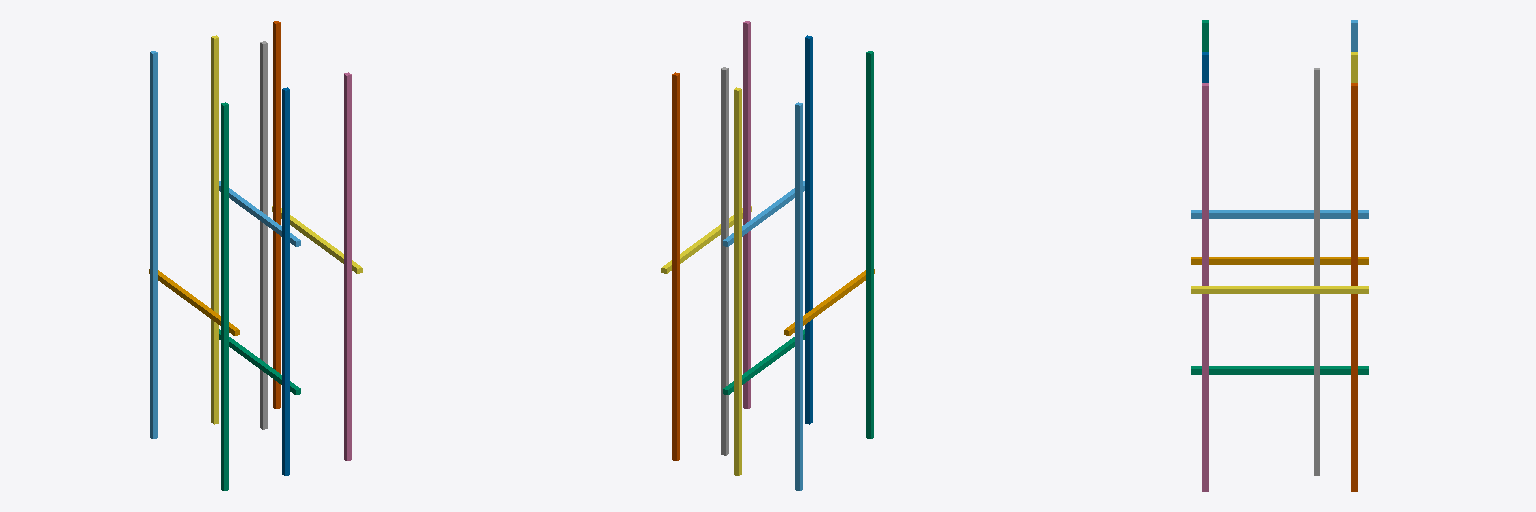
robot.urdf — gates2:
<robot name="gates2">
   <material name="Brown">
     <color rgba="83./255. 53./255. 10./255."/>
   </material>
   <material name="White">
     <color rgba="1 1 1"/>
   </material>
   <material name="Grey">
     <color rgba=".3 .3 .3"/>
   </material>
   <material name="Red">
     <color rgba="1 0 0"/>
   </material>
   <link name="world"/>

   <link name="l1">
   	<inertial>
   		<mass value=".5" />
   		<origin xyz="0 0 1.5" rpy="0 0 0"/>
		  <inertia ixx="10"  ixy="0"  ixz="0" iyy="10" iyz="0" izz="1" />
   	</inertial>
  	<visual>
      <origin xyz="0 0 1.5" rpy="0 0 0" />
      <geometry>
        <box size="0.042 0.042 3"/>
      </geometry>
      <material name="White"/>
    </visual>
    <collision>
      <origin xyz="0 0 1.5" rpy="0 0 0" />
      <geometry>
        <box size="0.042 0.042 3"/>
      </geometry>
    </collision>
   </link>
   <joint name="l1_weld" type="fixed">
    <parent link="world"/>
      <child link="l1"/>
    <origin xyz="-.5 .5 0" rpy="0 0 0" />
   </joint>
   <link name="l2">
   	<inertial>
   		<mass value=".5" />
   		<origin xyz="0 0 1.5" rpy="0 0 0"/>
		  <inertia ixx="10"  ixy="0"  ixz="0" iyy="10" iyz="0" izz="1" />
   	</inertial>
  	<visual>
      <origin xyz="0 0 1.5" rpy="0 0 0" />
      <geometry>
        <box size="0.042 0.042 3"/>
      </geometry>
      <material name="White"/>
    </visual>
    <collision>
      <origin xyz="0 0 1.5" rpy="0 0 0" />
      <geometry>
        <box size="0.042 0.042 3"/>
      </geometry>
    </collision>
   </link>
   <joint name="l2_weld" type="fixed">
    <parent link="world"/>
      <child link="l2"/>
    <origin xyz="-.5 -.5 0" rpy="0 0 0" />
   </joint>

   <link name="l3">
   	<inertial>
   		<mass value=".5" />
   		<origin xyz="0 0 1.5" rpy="0 0 0"/>
		  <inertia ixx="10"  ixy="0"  ixz="0" iyy="10" iyz="0" izz="1" />
   	</inertial>
  	<visual>
      <origin xyz="0 0 1.5" rpy="0 0 0" />
      <geometry>
        <box size="0.042 0.042 3"/>
      </geometry>
      <material name="White"/>
    </visual>
    <collision>
      <origin xyz="0 0 1.5" rpy="0 0 0" />
      <geometry>
        <box size="0.042 0.042 3"/>
      </geometry>
    </collision>
   </link>
   <joint name="l3_weld" type="fixed">
    <parent link="world"/>
      <child link="l3"/>
    <origin xyz="0 .5 0" rpy="0 0 0" />
   </joint>
   <link name="l4">
   	<inertial>
   		<mass value=".5" />
   		<origin xyz="0 0 1.5" rpy="0 0 0"/>
		  <inertia ixx="10"  ixy="0"  ixz="0" iyy="10" iyz="0" izz="1" />
   	</inertial>
  	<visual>
      <origin xyz="0 0 1.5" rpy="0 0 0" />
      <geometry>
        <box size="0.042 0.042 3"/>
      </geometry>
      <material name="White"/>
    </visual>
    <collision>
      <origin xyz="0 0 1.5" rpy="0 0 0" />
      <geometry>
        <box size="0.042 0.042 3"/>
      </geometry>
    </collision>
   </link>
   <joint name="l4_weld" type="fixed">
    <parent link="world"/>
      <child link="l4"/>
    <origin xyz="0 -.5 0" rpy="0 0 0" />
   </joint>

   <link name="l5">
   	<inertial>
   		<mass value=".5" />
   		<origin xyz="0 0 1.5" rpy="0 0 0"/>
		  <inertia ixx="10"  ixy="0"  ixz="0" iyy="10" iyz="0" izz="1" />
   	</inertial>
  	<visual>
      <origin xyz="0 0 1.5" rpy="0 0 0" />
      <geometry>
        <box size="0.042 0.042 3"/>
      </geometry>
      <material name="White"/>
    </visual>
    <collision>
      <origin xyz="0 0 1.5" rpy="0 0 0" />
      <geometry>
        <box size="0.042 0.042 3"/>
      </geometry>
    </collision>
   </link>
   <joint name="l5_weld" type="fixed">
    <parent link="world"/>
      <child link="l5"/>
    <origin xyz=".5 .5 0" rpy="0 0 0" />
   </joint>
   <link name="l6">
   	<inertial>
   		<mass value=".5" />
   		<origin xyz="0 0 1.5" rpy="0 0 0"/>
		  <inertia ixx="10"  ixy="0"  ixz="0" iyy="10" iyz="0" izz="1" />
   	</inertial>
  	<visual>
      <origin xyz="0 0 1.5" rpy="0 0 0" />
      <geometry>
        <box size="0.042 0.042 3"/>
      </geometry>
      <material name="White"/>
    </visual>
    <collision>
      <origin xyz="0 0 1.5" rpy="0 0 0" />
      <geometry>
        <box size="0.042 0.042 3"/>
      </geometry>
    </collision>
   </link>
   <joint name="l6_weld" type="fixed">
    <parent link="world"/>
      <child link="l6"/>
    <origin xyz=".5 -.5 0" rpy="0 0 0" />
   </joint>

   <link name="l7">
   	<inertial>
   		<mass value=".5" />
   		<origin xyz="0 0 1.5" rpy="0 0 0"/>
		  <inertia ixx="10"  ixy="0"  ixz="0" iyy="10" iyz="0" izz="1" />
   	</inertial>
  	<visual>
      <origin xyz="0 0 1.5" rpy="0 0 0" />
      <geometry>
        <box size="0.042 0.042 3"/>
      </geometry>
      <material name="White"/>
    </visual>
    <collision>
      <origin xyz="0 0 1.5" rpy="0 0 0" />
      <geometry>
        <box size="0.042 0.042 3"/>
      </geometry>
    </collision>
   </link>
   <joint name="l7_weld" type="fixed">
    <parent link="world"/>
      <child link="l7"/>
    <origin xyz=".25 .25 0" rpy="0 0 0" />
   </joint>

  <link name="s1">
   	<inertial>
   		<mass value=".5" />
   		<origin xyz="0 0 .6" rpy="0 0 0"/>
		  <inertia ixx="5"  ixy="0"  ixz="0" iyy="5" iyz="0" izz="1" />
   	</inertial>
  	<visual>
      <origin xyz="0 0 0.6" rpy="0 0 0" />
      <geometry>
        <box size="0.042 0.042 1.2"/>
      </geometry>
      <material name="White"/>
    </visual>
    <collision>
      <origin xyz="0 0 0.6" rpy="0 0 0" />
      <geometry>
        <box size="0.042 0.042 1.2"/>
      </geometry>
    </collision>
   </link>
   <joint name="s1_weld" type="fixed">
    <parent link="l2"/>
      <child link="s1"/>
    <origin xyz="0.042 -.1 1.25" rpy="-1.570796326794897 0 0" />
   </joint>
  <link name="s2">
   	<inertial>
   		<mass value=".5" />
   		<origin xyz="0 0 .6" rpy="0 0 0"/>
		  <inertia ixx="5"  ixy="0"  ixz="0" iyy="5" iyz="0" izz="1" />
   	</inertial>
  	<visual>
      <origin xyz="0 0 0.6" rpy="0 0 0" />
      <geometry>
        <box size="0.042 0.042 1.2"/>
      </geometry>
      <material name="White"/>
    </visual>
    <collision>
      <origin xyz="0 0 0.6" rpy="0 0 0" />
      <geometry>
        <box size="0.042 0.042 1.2"/>
      </geometry>
    </collision>
   </link>
   <joint name="s2_weld" type="fixed">
    <parent link="l4"/>
      <child link="s2"/>
    <origin xyz="0.042 -.1 1.8274" rpy="-1.570796326794897 0 0" />
   </joint>
  <link name="s3">
   	<inertial>
   		<mass value=".5" />
   		<origin xyz="0 0 .6" rpy="0 0 0"/>
		  <inertia ixx="5"  ixy="0"  ixz="0" iyy="5" iyz="0" izz="1" />
   	</inertial>
  	<visual>
      <origin xyz="0 0 0.6" rpy="0 0 0" />
      <geometry>
        <box size="0.042 0.042 1.2"/>
      </geometry>
      <material name="White"/>
    </visual>
    <collision>
      <origin xyz="0 0 0.6" rpy="0 0 0" />
      <geometry>
        <box size="0.042 0.042 1.2"/>
      </geometry>
    </collision>
   </link>
   <joint name="s3_weld" type="fixed">
    <parent link="l4"/>
      <child link="s3"/>
    <origin xyz="0.042 -.1 0.6726" rpy="-1.570796326794897 0 0" />
   </joint>

  <link name="s4">
   	<inertial>
   		<mass value=".5" />
   		<origin xyz="0 0 .6" rpy="0 0 0"/>
		  <inertia ixx="5"  ixy="0"  ixz="0" iyy="5" iyz="0" izz="1" />
   	</inertial>
  	<visual>
      <origin xyz="0 0 0.6" rpy="0 0 0" />
      <geometry>
        <box size="0.042 0.042 1.2"/>
      </geometry>
      <material name="White"/>
    </visual>
    <collision>
      <origin xyz="0 0 0.6" rpy="0 0 0" />
      <geometry>
        <box size="0.042 0.042 1.2"/>
      </geometry>
    </collision>
   </link>
   <joint name="s4_weld" type="fixed">
    <parent link="l6"/>
      <child link="s4"/>
    <origin xyz="0.042 -.1 1.5" rpy="-1.570796326794897 0 0" />
   </joint>
<!--
  <link name="s5">
   	<inertial>
   		<mass value=".5" />
   		<origin xyz="0 0 .6" rpy="0 0 0"/>
		  <inertia ixx="5"  ixy="0"  ixz="0" iyy="5" iyz="0" izz="1" />
   	</inertial>
  	<visual>
      <origin xyz="0 0 0.6" rpy="0 0 0" />
      <geometry>
        <box size="0.042 0.042 1.2"/>
      </geometry>
      <material name="White"/>
    </visual>
    <collision>
      <origin xyz="0 0 0.6" rpy="0 0 0" />
      <geometry>
        <box size="0.042 0.042 1.2"/>
      </geometry>
    </collision>
   </link>
   <joint name="s5_weld" type="fixed">
    <parent link="l6"/>
      <child link="s5"/>
    <origin xyz="0.042 0 1.25" rpy="-2.094395102393196 0 0" />
   </joint>
-->
</robot>

--- Render facts (derived) ---
Views: 3 orthographic renders of the robot side by side, from view 1: azimuth 30°, elevation 25°; view 2: azimuth 150°, elevation 25°; view 3: azimuth 270°, elevation 25°.
Model gates2 with 12 links and 11 joints (11 fixed), rooted at world, posed all joints at 0.
Visible links, largest first — view 1: l2, l6, l4, l1, l3, l7, l5, s1, s4, s2, s3; view 2: l1, l5, l3, l2, l4, l7, l6, s1, s2, s3, s4; view 3: l5, l6, l7, s4, s2, s3, s1.
Link boxes in pixels (box(x1,y1,x2,y2)): l2: box(221, 102, 228, 490); l6: box(344, 72, 351, 460); l4: box(282, 87, 289, 475); l1: box(150, 51, 157, 438); l3: box(211, 35, 218, 424); l7: box(260, 41, 267, 429); l5: box(273, 21, 280, 408); s1: box(149, 269, 239, 335); s4: box(272, 206, 362, 273); s2: box(219, 181, 300, 246); s3: box(219, 329, 300, 394); l1: box(795, 102, 802, 490); l5: box(672, 72, 679, 460); l3: box(734, 87, 741, 475); l2: box(866, 51, 873, 438); l4: box(805, 35, 812, 424); l7: box(721, 67, 728, 455); l6: box(743, 21, 750, 408); s1: box(784, 269, 874, 335); s2: box(723, 181, 804, 246); s3: box(723, 329, 804, 394); s4: box(661, 206, 751, 273); l5: box(1351, 83, 1357, 491); l6: box(1202, 83, 1208, 491); l7: box(1314, 68, 1319, 475); s4: box(1191, 286, 1368, 293); s2: box(1191, 210, 1368, 218); s3: box(1191, 366, 1368, 374); s1: box(1191, 257, 1368, 264).
Bounding box of the posed robot: 1.08 × 1.2 × 3 m (x, y, z).
Geometry: primitives only (box / cylinder / sphere), no mesh files.
